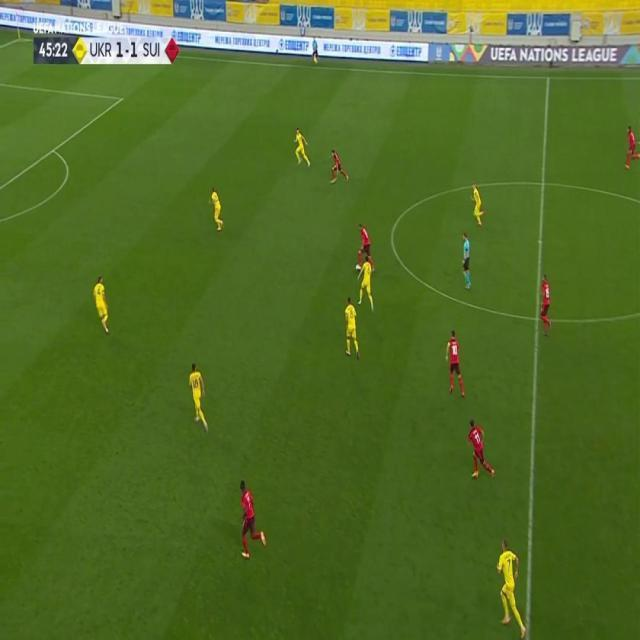ball: (356, 263, 360, 269)
player: (493, 538, 530, 638), (236, 479, 268, 559), (465, 420, 496, 481), (187, 361, 209, 434), (444, 329, 467, 397), (342, 297, 361, 361), (355, 255, 377, 307), (92, 275, 111, 335), (537, 274, 553, 336), (357, 223, 375, 271), (469, 180, 486, 228), (622, 125, 640, 170), (329, 147, 349, 185), (293, 126, 311, 168), (209, 188, 225, 233)
referee: (460, 232, 474, 290), (311, 36, 320, 66)
